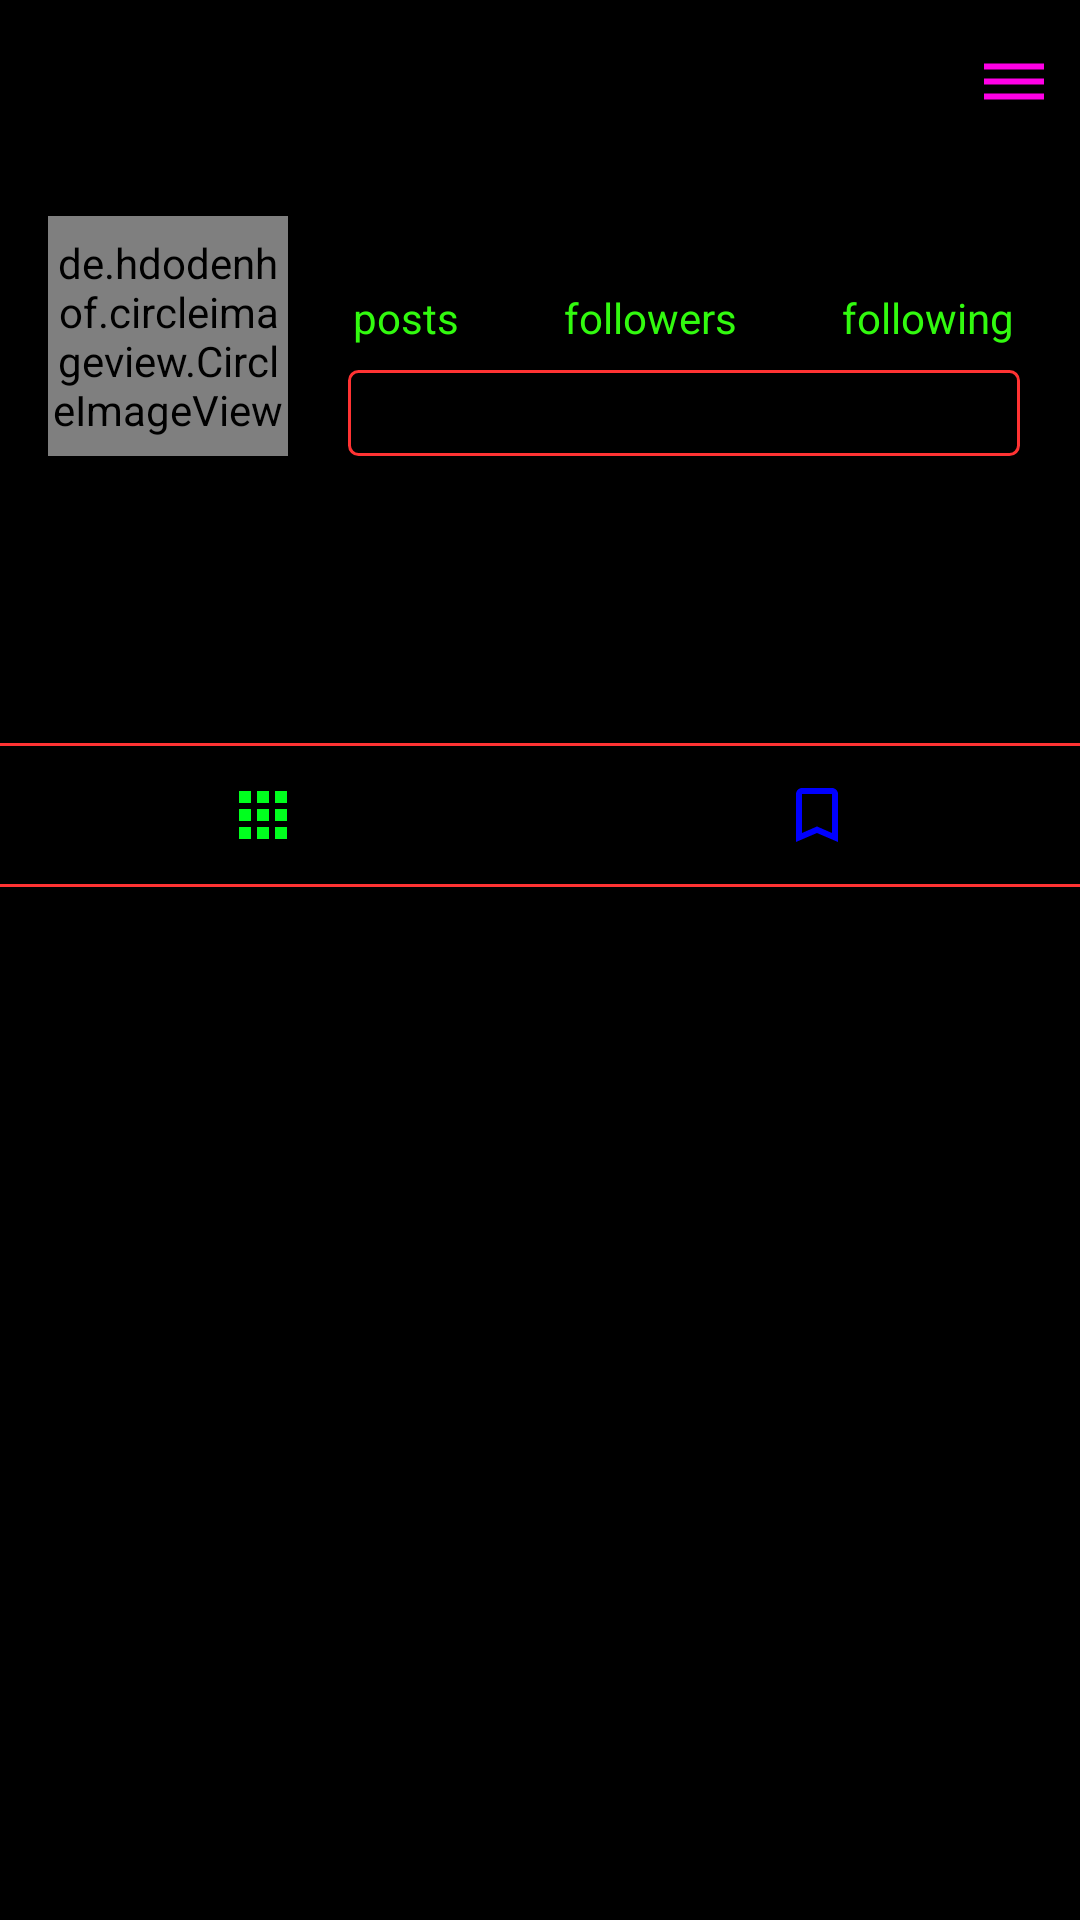

Where icons sit on this 1080 × 1920 app screen, as (x1, y1, x2, y2):
options: (984, 63, 1044, 100)
